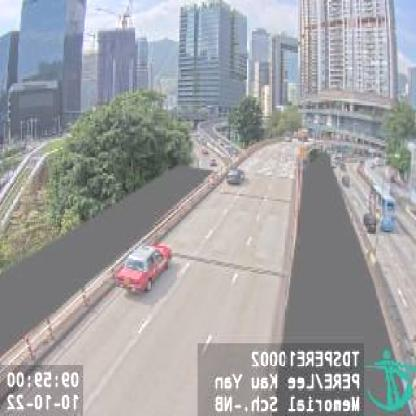Bus: (370, 184, 396, 231)
Car: (116, 242, 172, 296), (225, 166, 243, 184)
